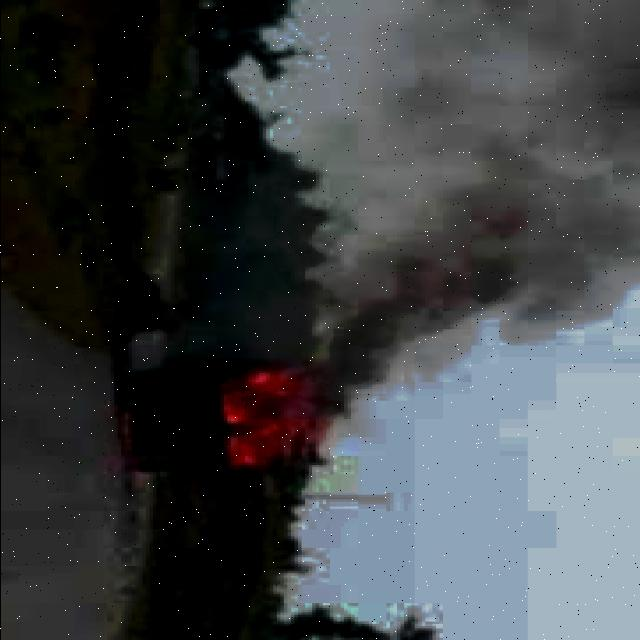api: (206, 349, 334, 487)
